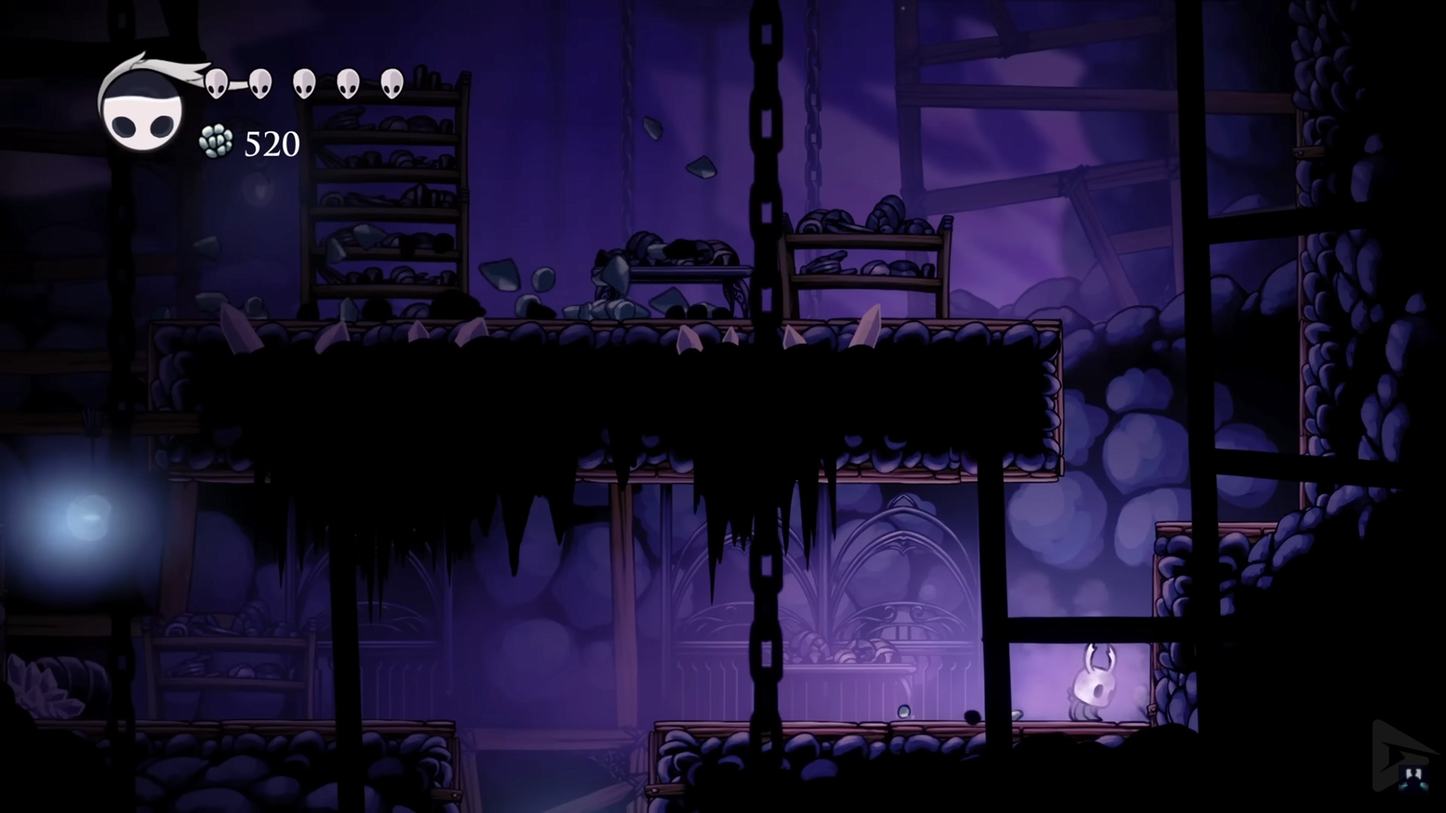HK: (1059, 635, 1127, 728)
